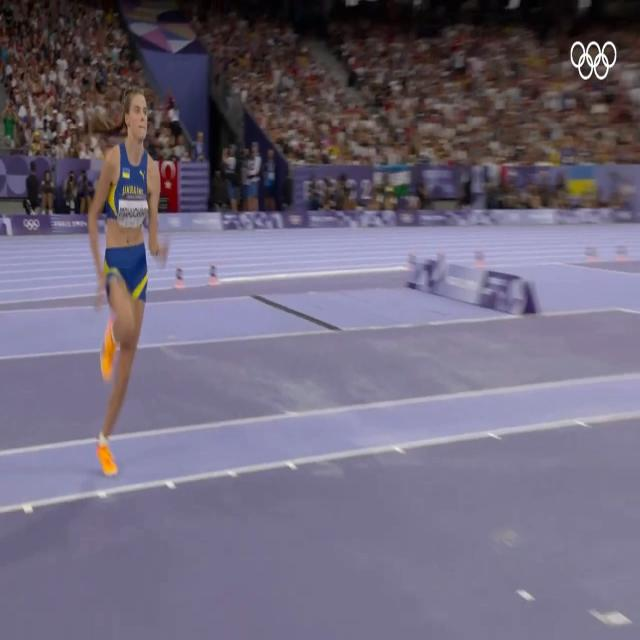run: (87, 88, 167, 479)
